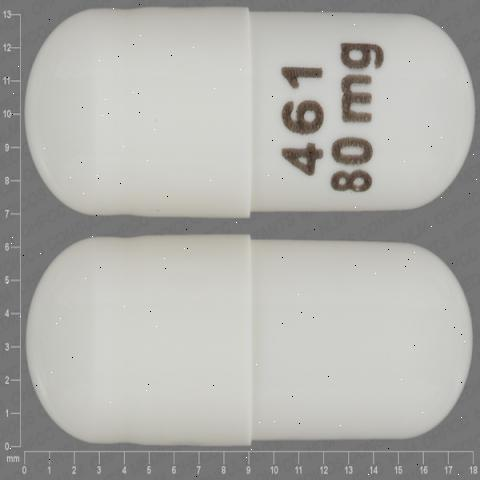Pill: (14, 226, 480, 457), (11, 5, 479, 223)
